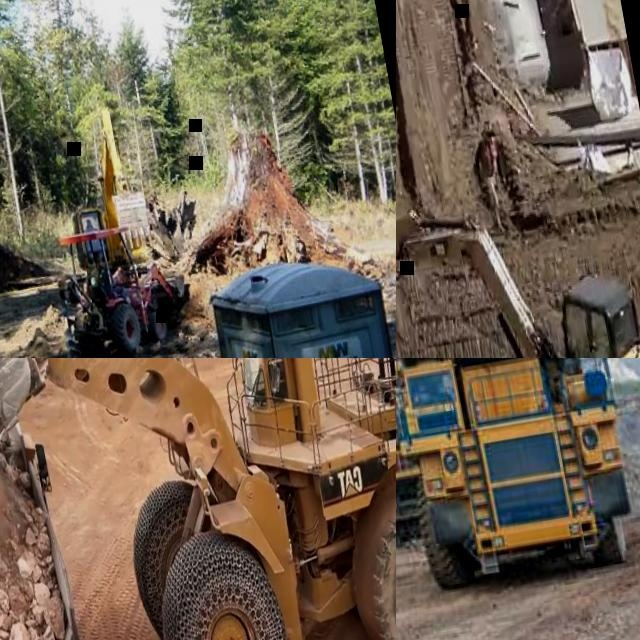Person: (468, 122, 512, 232), (83, 217, 95, 230)
Safety Vest: (85, 224, 95, 231)
machinery: (0, 358, 396, 640), (396, 358, 640, 591), (396, 145, 640, 358), (0, 377, 110, 640), (51, 102, 174, 279), (47, 214, 194, 358)
